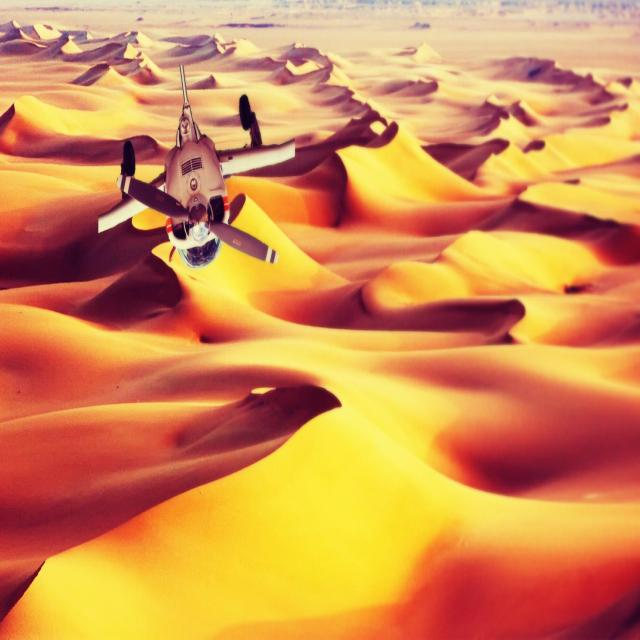airplane: (97, 64, 296, 273)
